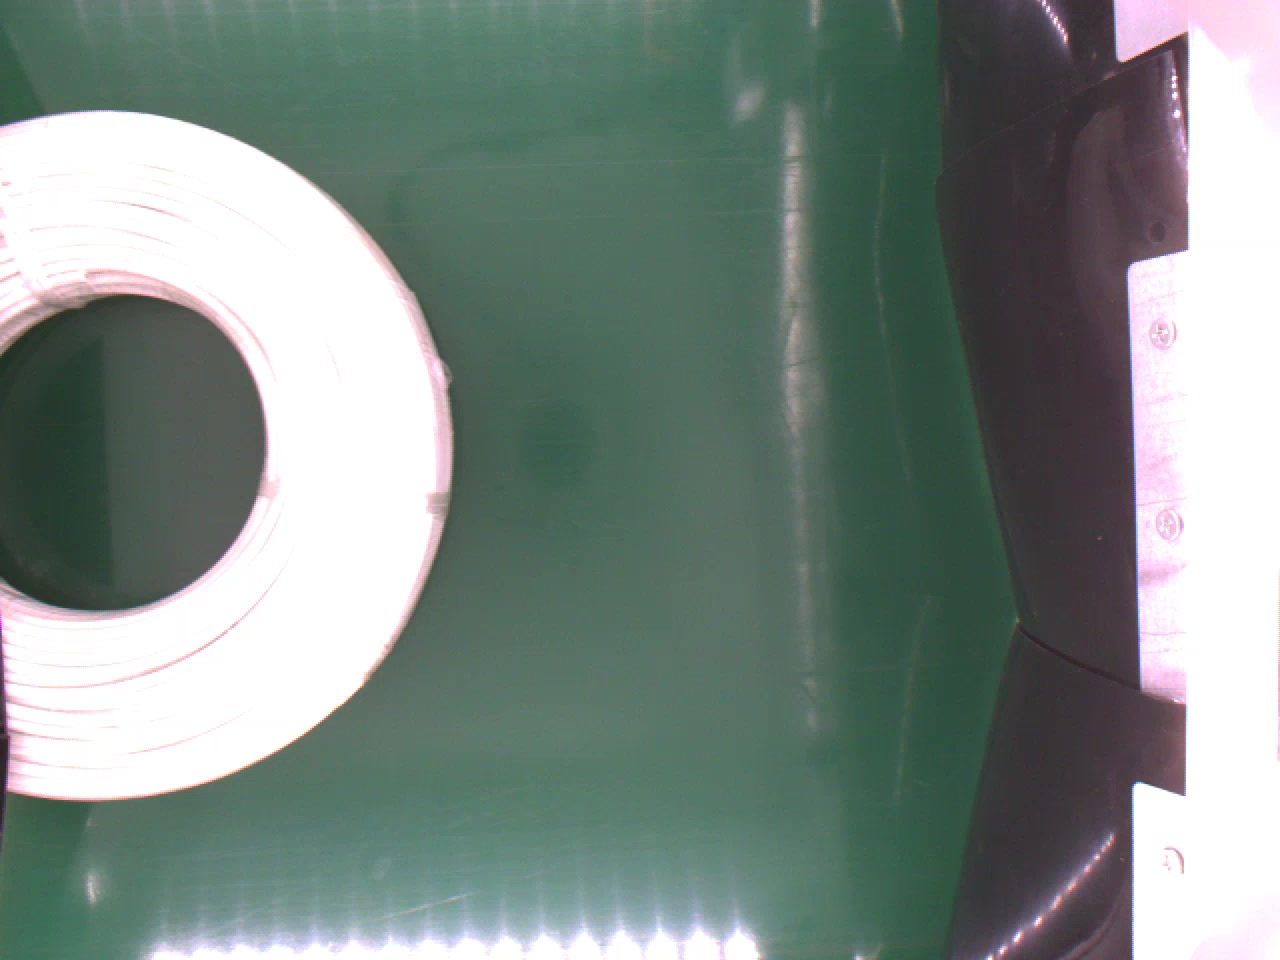white: (0, 105, 451, 802)
